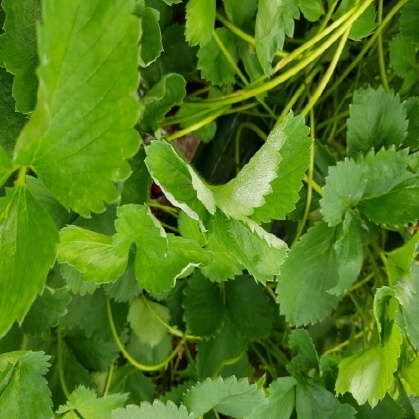Powdery_Leaf: (133, 159, 310, 245), (170, 123, 285, 245), (105, 184, 208, 311), (128, 132, 214, 223), (202, 192, 276, 279)
